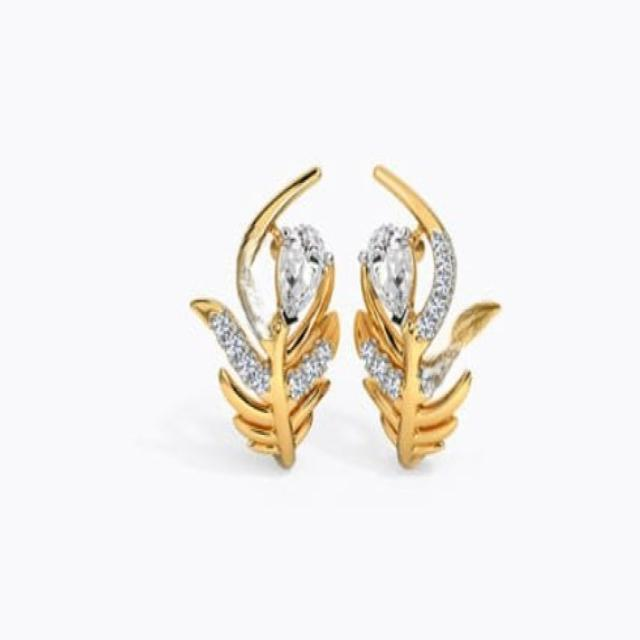missing gem: (457, 311, 480, 339), (432, 349, 452, 374), (422, 365, 440, 390), (445, 333, 462, 356)
